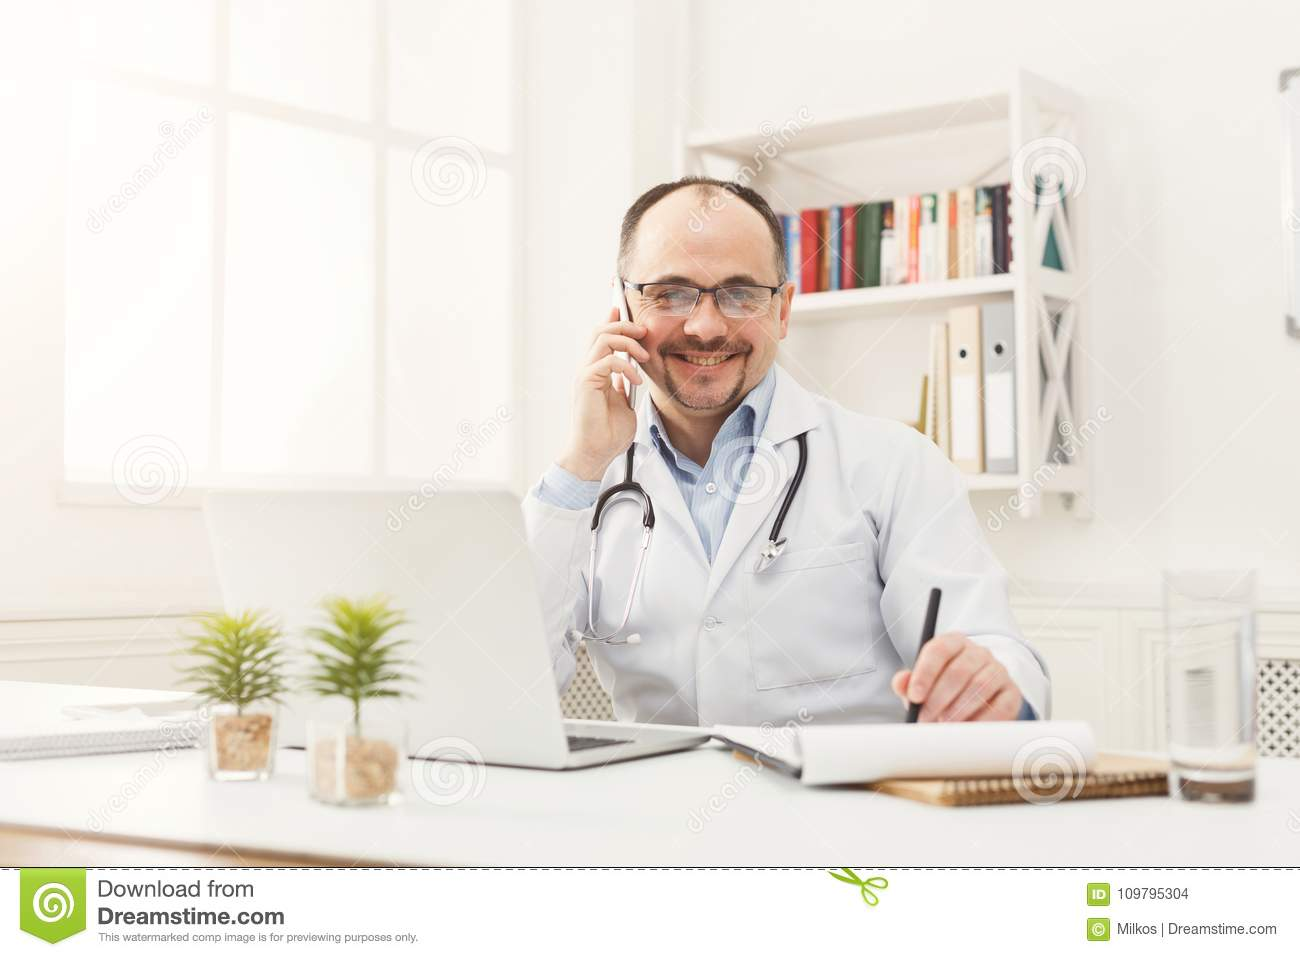phone: (606, 271, 643, 416)
talk: (564, 269, 770, 460)
